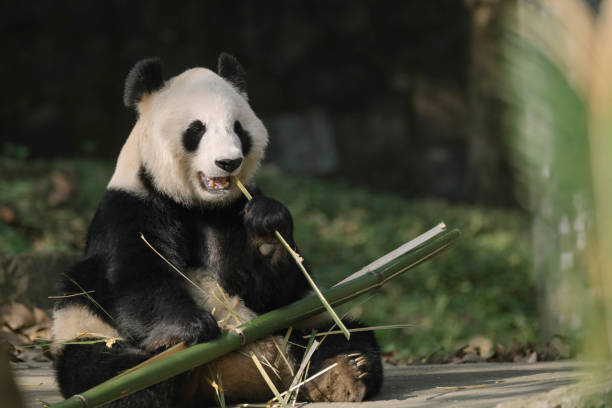panda: (118, 45, 284, 226)
